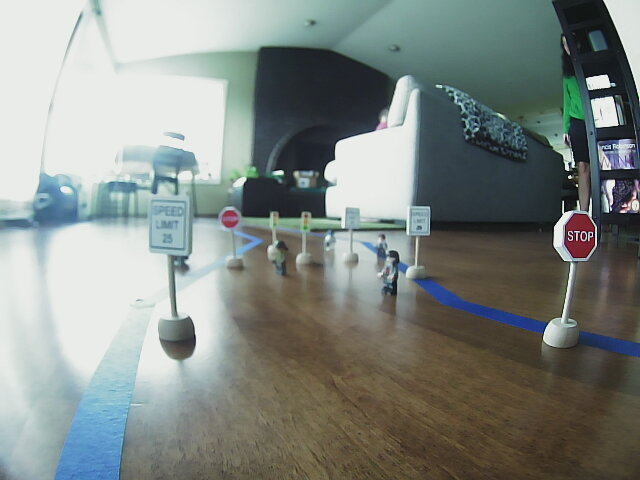SpeedLimit25: (147, 195, 193, 260), (342, 205, 359, 229)
SpeedLimit35: (406, 205, 431, 236)
StopSign: (552, 213, 600, 261), (219, 208, 241, 230)
TrafficLight: (298, 211, 311, 235), (270, 211, 280, 230)
person: (384, 250, 403, 297), (267, 239, 289, 274), (320, 227, 339, 255), (373, 230, 387, 260)
